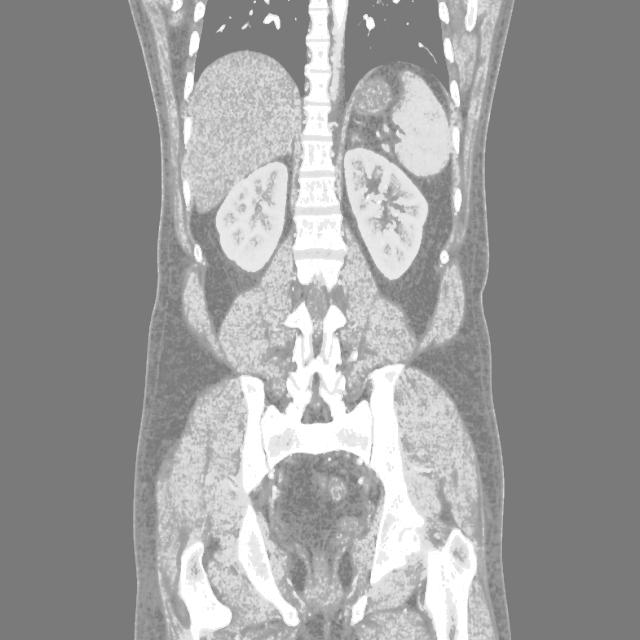NORMAL: (116, 81, 563, 556)
